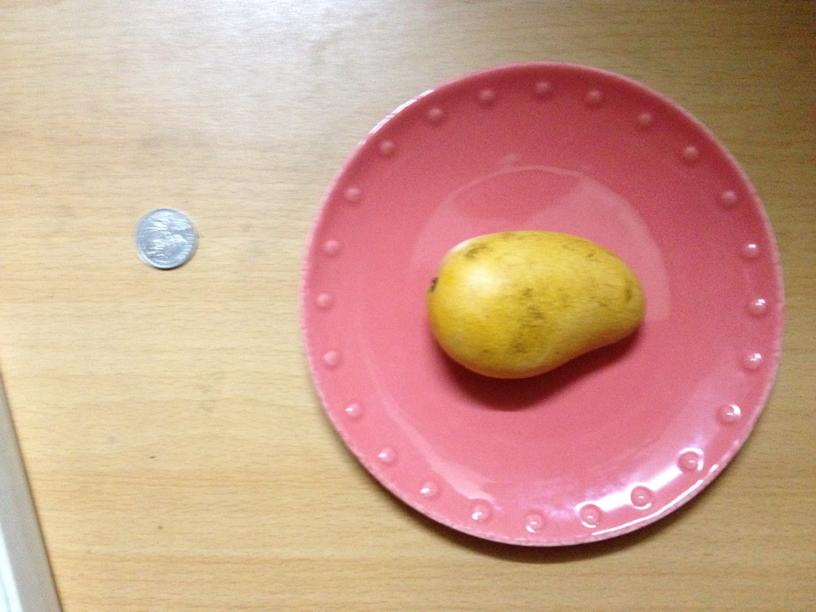coin: (137, 207, 199, 269)
mango: (434, 233, 646, 376)
